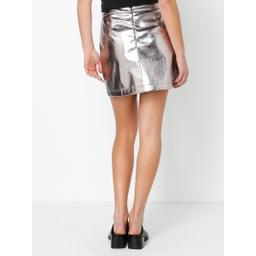skirt: (100, 3, 176, 96)
